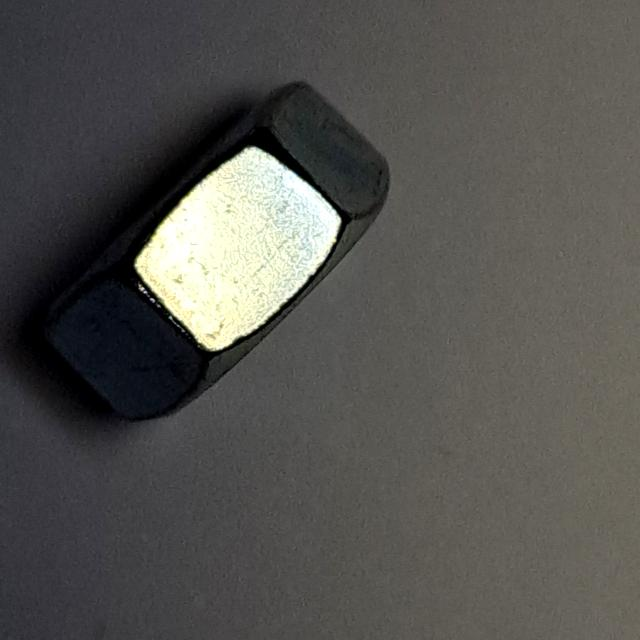Side_Excellent: (16, 68, 407, 439)
